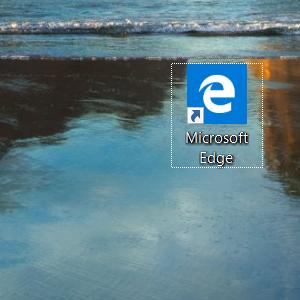edge: (187, 63, 247, 124)
